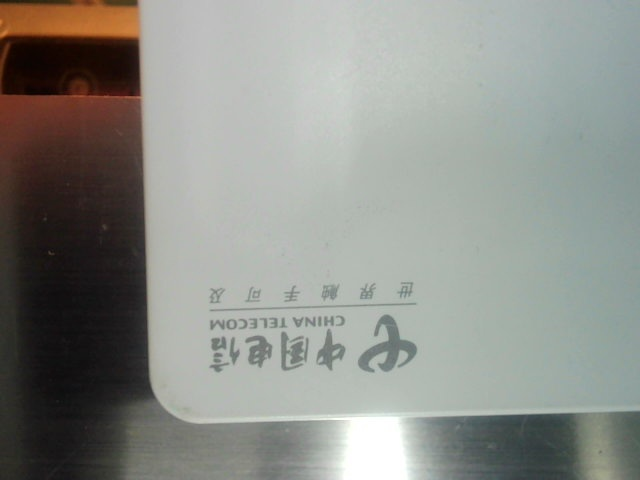AB_ChinaTelecom: (207, 283, 431, 374)
